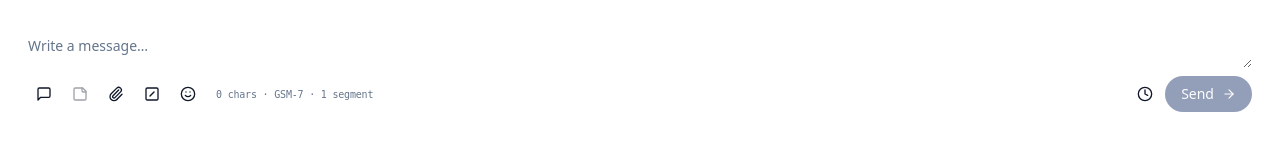
Test: Composer › shows other errors without offering reassignment
The width and height of the screenshot is (1270, 160).
Step 1. Type "hello" into the text box labelled "message" → (640, 50), box [28, 32, 1252, 68]
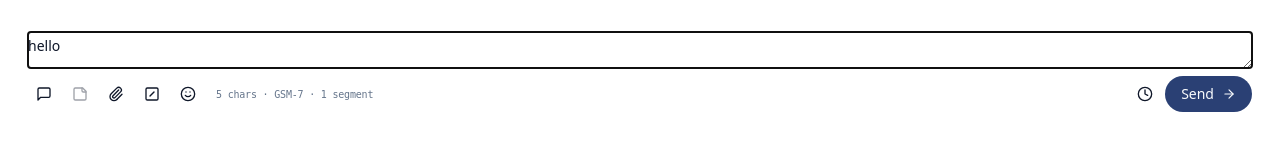
Step 2. Click the button "Send" → (1209, 94), box [1165, 76, 1252, 112]
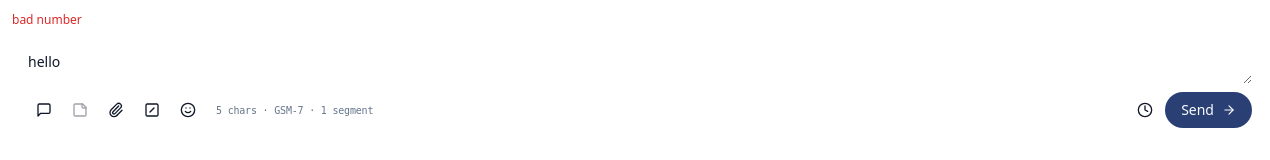
Result: the message reads "bad number" at [12, 11, 82, 28]
